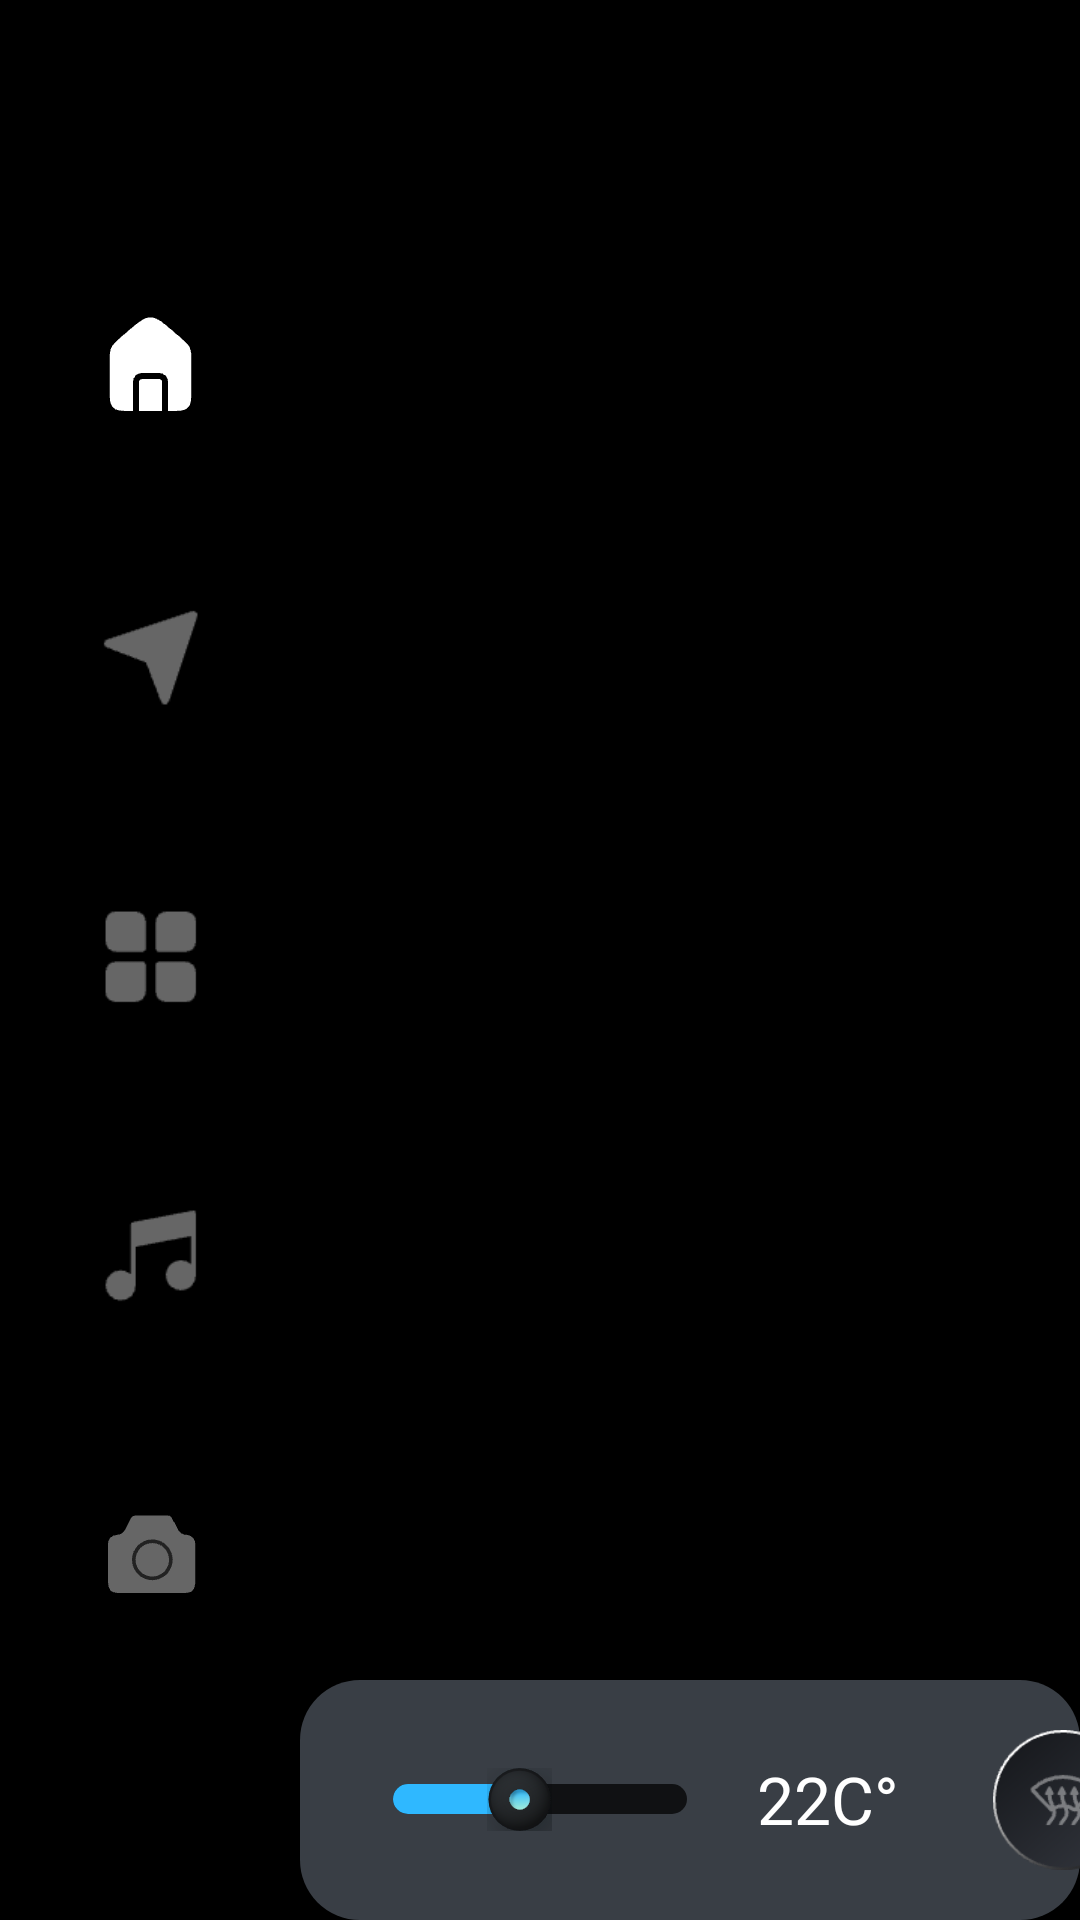

Icon click points for this 1080 × 1920 phone screenshot, format point (x, y):
camera: point (152, 1554)
home: point (150, 364)
music: point (150, 1255)
navigation: point (151, 658)
